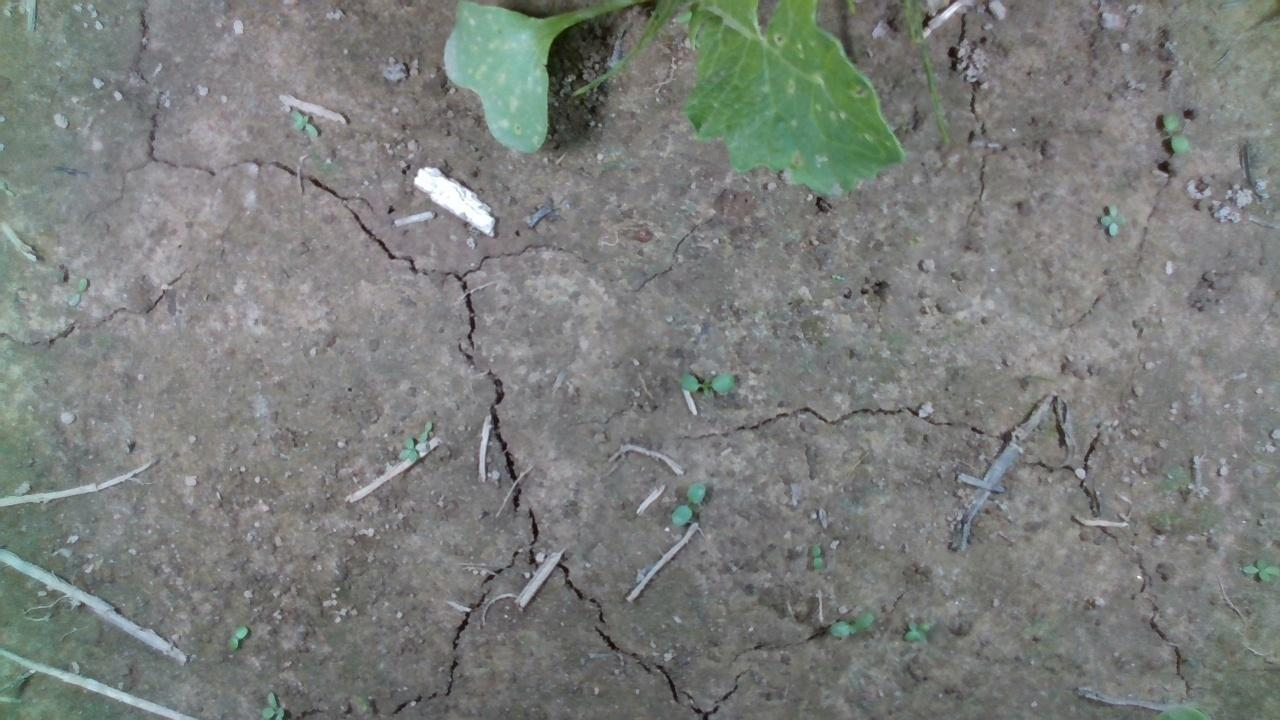weed: (670, 481, 706, 526), (677, 370, 734, 394), (828, 610, 873, 638), (1162, 109, 1190, 154), (1096, 200, 1125, 237), (1242, 556, 1278, 582), (289, 108, 318, 137), (67, 274, 87, 305), (224, 626, 247, 649), (810, 542, 823, 570)
